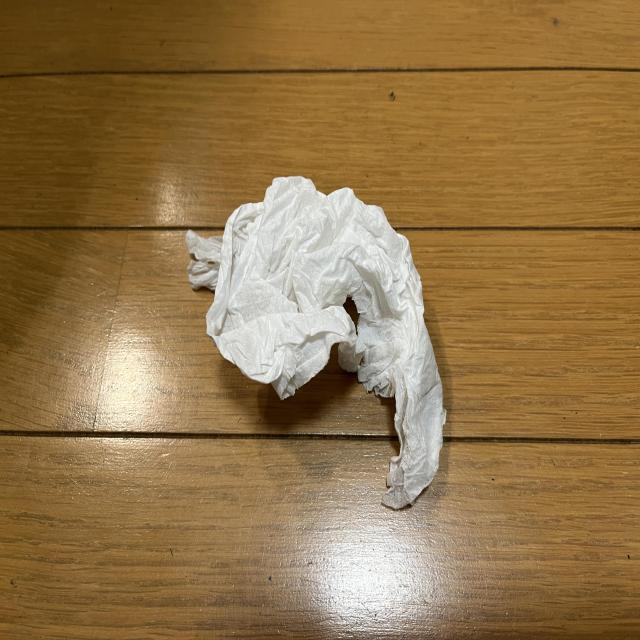Paper: (188, 175, 450, 499)
